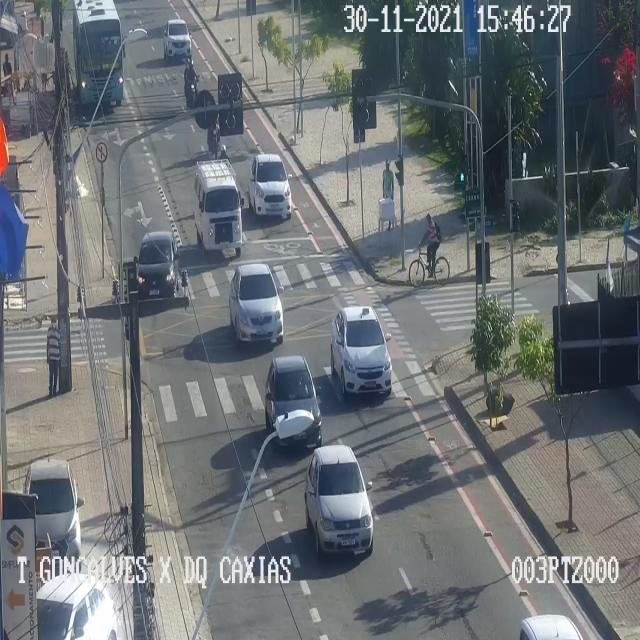Bus: (70, 1, 126, 107)
Car: (304, 444, 372, 550), (24, 460, 80, 570), (330, 306, 391, 394), (36, 573, 116, 639), (265, 356, 321, 446), (194, 162, 242, 254), (229, 263, 283, 341), (136, 230, 179, 298), (249, 153, 291, 217), (512, 607, 582, 640), (163, 18, 191, 58)
Motorcycle: (184, 57, 198, 115), (207, 102, 219, 158)
